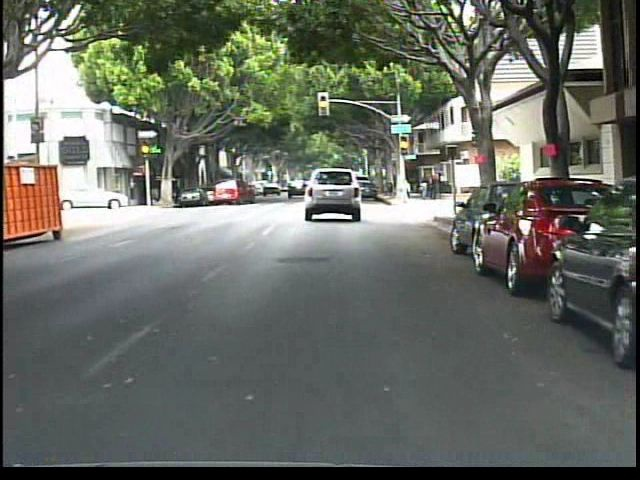person: (418, 172, 430, 201)
